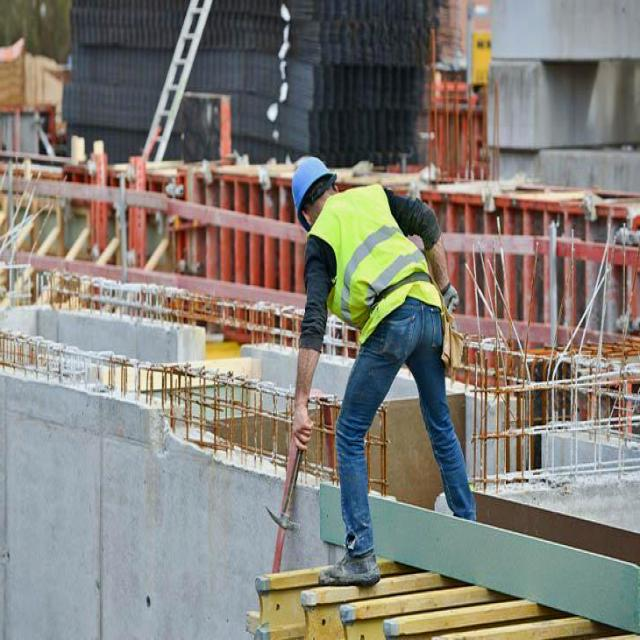hand_glove: (439, 280, 462, 315)
hand_noglove: (284, 397, 314, 453)
head_helmet: (289, 153, 336, 227)
person: (266, 152, 474, 586)
shoes: (312, 544, 383, 592)
vest: (319, 181, 445, 335)
